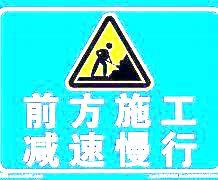sign: (2, 2, 215, 175)
